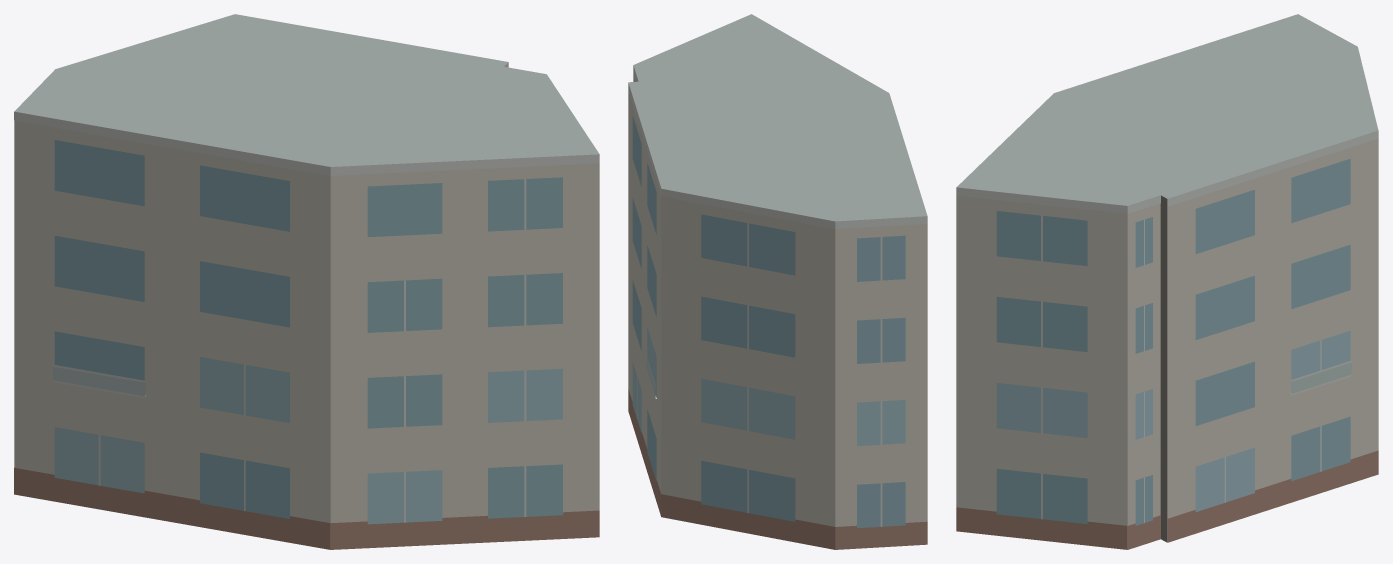
Rendered from survey-upis-32612976.glb.
3 views of the same model, side by side, from view 1: azimuth 30°, elevation 25°; view 2: azimuth 150°, elevation 25°; view 3: azimuth 270°, elevation 25° (orthographic). The views are drawn at different scales.
Visible parts, largest first — view 1: survey-upis-32612976.tmp; view 2: survey-upis-32612976.tmp; view 3: survey-upis-32612976.tmp.
Boxes of the visible parts, x1,y1,x2,y2 form: survey-upis-32612976.tmp: (14,14,599,549); survey-upis-32612976.tmp: (628,14,927,549); survey-upis-32612976.tmp: (956,14,1378,549).
Size of the model in its own units: 12.58 by 10.5 by 11.69.
